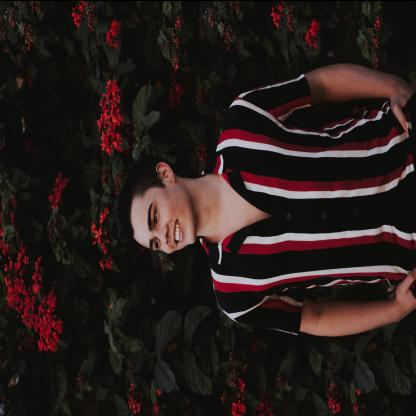Eye: (153, 206, 159, 223), (154, 236, 160, 248)
Mouth: (173, 218, 183, 244)
Nose: (154, 225, 170, 244)
